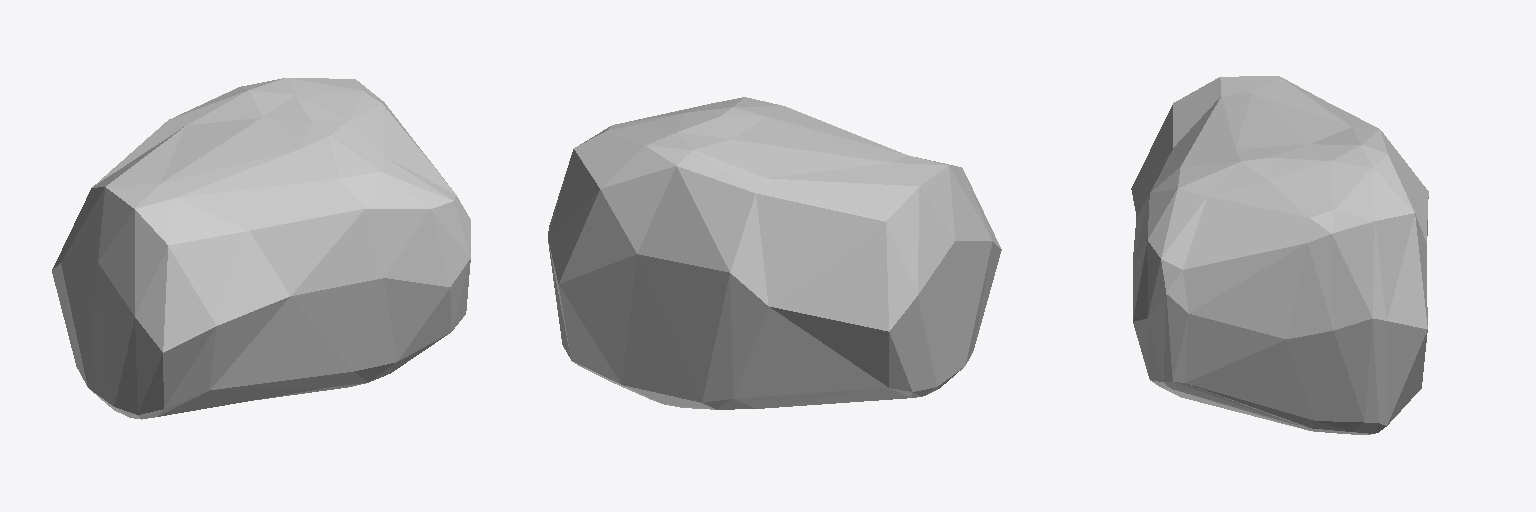
Rendered from front_left_hip_collision.obj.
3 renders of one model, left to right at view 1: azimuth 30°, elevation 25°; view 2: azimuth 150°, elevation 25°; view 3: azimuth 270°, elevation 25°, orthographic.
Visible parts, largest first — view 1: front_left_hip_collision_front_left_hip_collision.001; view 2: front_left_hip_collision_front_left_hip_collision.001; view 3: front_left_hip_collision_front_left_hip_collision.001.
Boxes of the visible parts, <box> form: front_left_hip_collision_front_left_hip_collision.001: <box>52,78,470,419</box>; front_left_hip_collision_front_left_hip_collision.001: <box>548,97,1001,409</box>; front_left_hip_collision_front_left_hip_collision.001: <box>1131,76,1428,434</box>.
Bounding box in the file's own units: 0.1609 × 0.1135 × 0.1199.